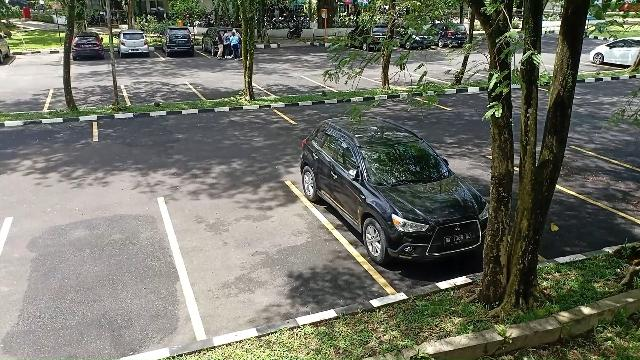empty: (0, 198, 172, 360), (170, 182, 326, 327), (94, 112, 290, 148), (564, 144, 640, 226), (46, 84, 126, 109), (124, 82, 198, 105), (195, 77, 261, 101), (260, 75, 324, 97), (331, 72, 395, 94), (8, 47, 62, 67)
occupied: (308, 132, 464, 288), (158, 30, 202, 60)
